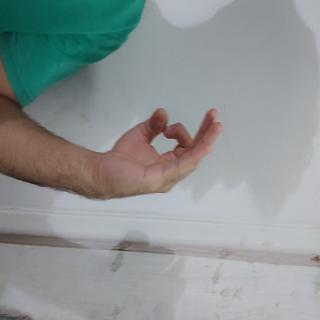Space: (73, 125, 160, 320)
